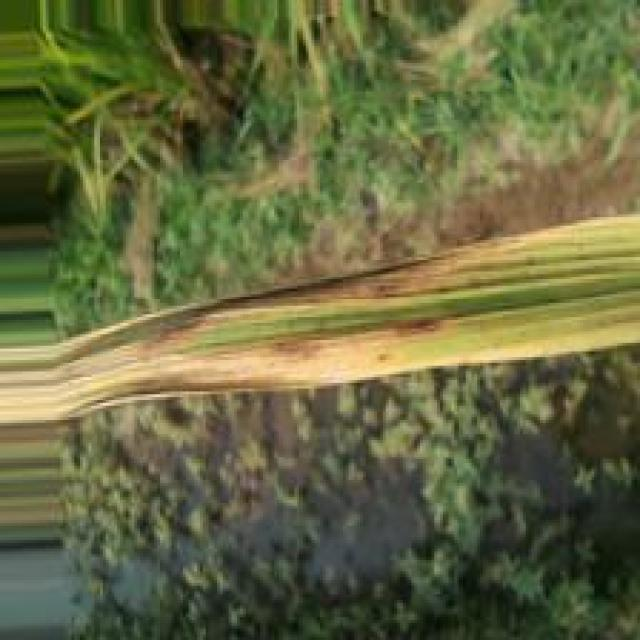Brown_Spot: (56, 229, 504, 427)
